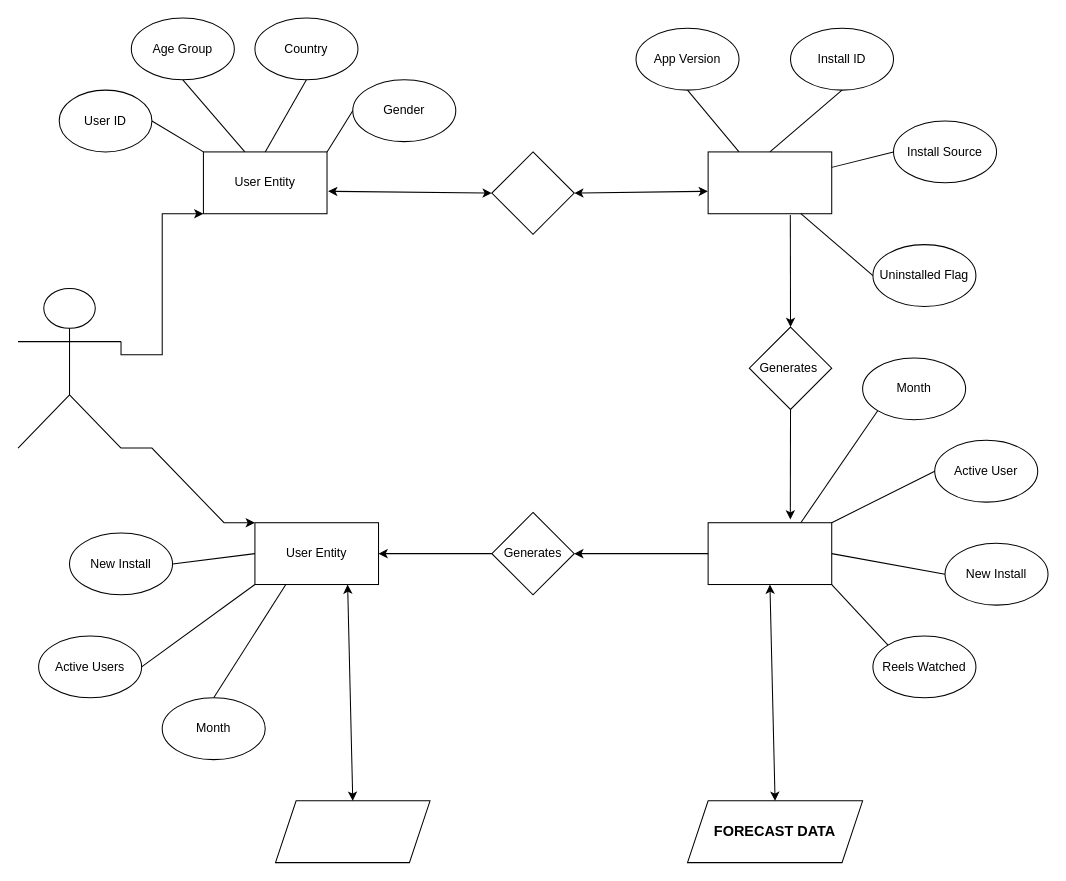
Some shapes in this 1066 by 881 pixel diagram are drawn without their labels. Each missing label, with the box of its shape:
CHURN DATA: (274, 800, 430, 863)
Engagement Entity: (707, 522, 832, 585)
Install Entity: (707, 151, 832, 214)
Performs: (491, 151, 574, 234)
USER: (17, 287, 121, 448)
